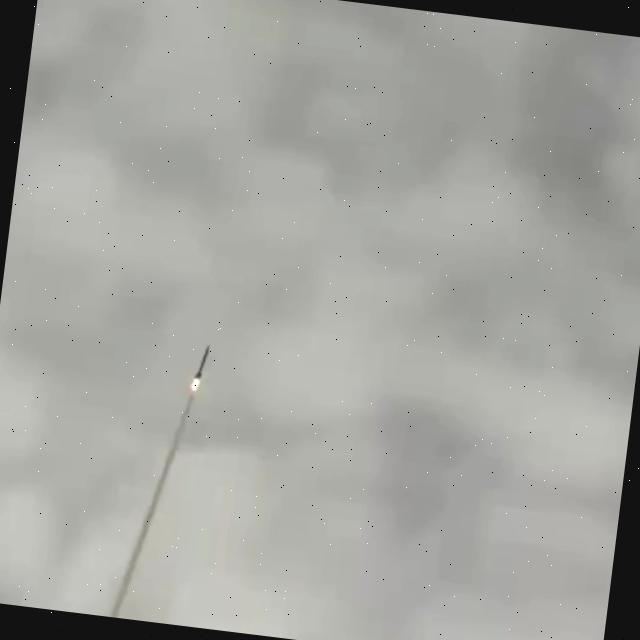rocket: (189, 345, 207, 396)
smoke_trail_with_rocket: (105, 343, 209, 618)
